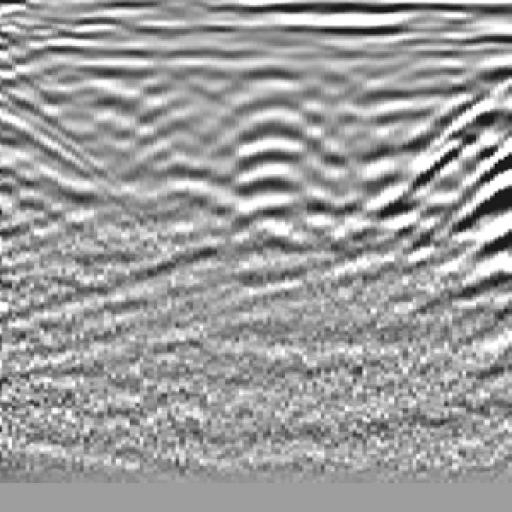metalic: (131, 42, 275, 266)
nonmetalic: (400, 48, 512, 263)
